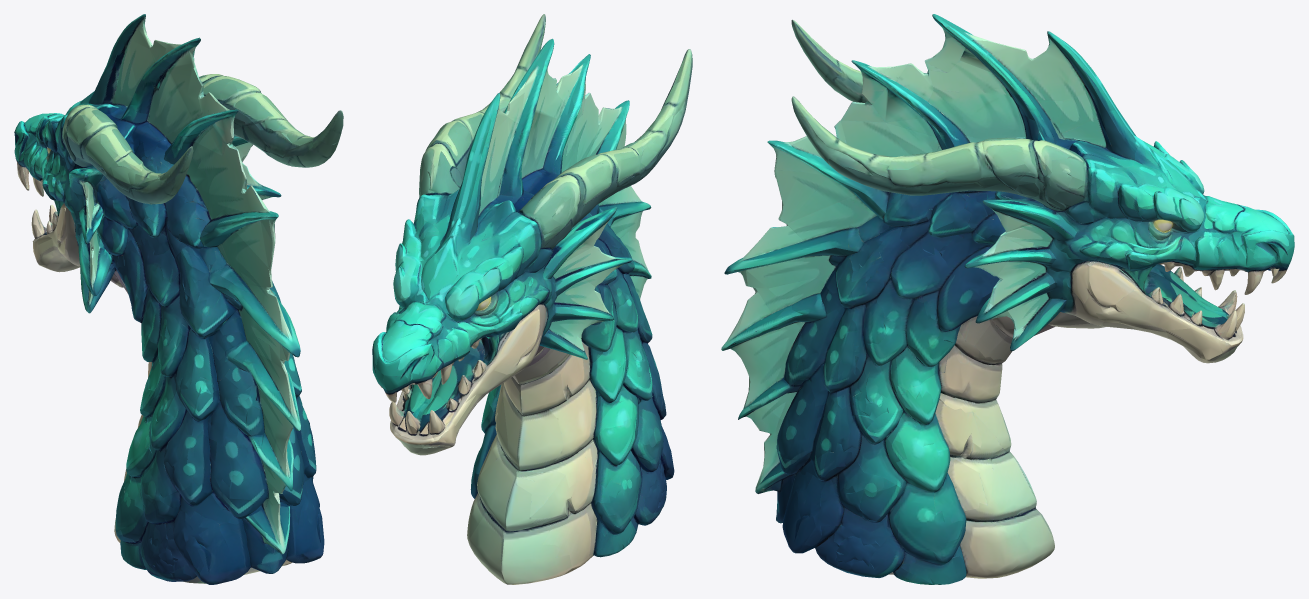
The model's file is tidewyrm-head.glb.
3 renders of one model, left to right at view 1: azimuth 30°, elevation 25°; view 2: azimuth 150°, elevation 25°; view 3: azimuth 270°, elevation 25°, orthographic. The views are drawn at different scales.
Size of the model in its own units: 7.11 by 18 by 17.18.
Materials: 1 (1 with a texture image).
